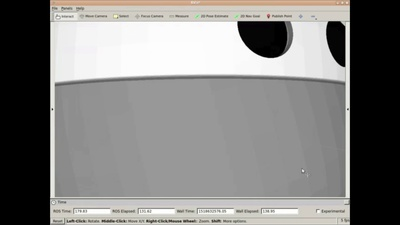mira_robot: (55, 22, 345, 197)
